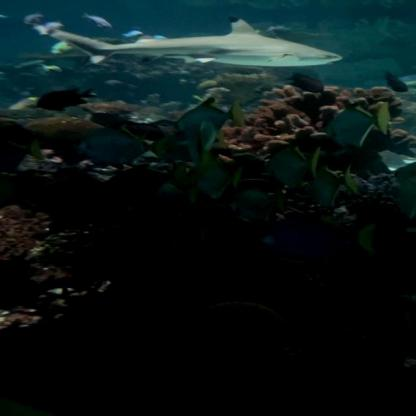fish: (13, 170, 136, 227), (280, 158, 395, 216), (244, 218, 373, 268), (257, 141, 373, 182), (129, 134, 234, 170), (121, 196, 190, 250), (162, 94, 258, 132), (50, 125, 153, 160), (320, 99, 388, 146), (172, 164, 256, 200), (35, 88, 98, 112), (286, 73, 327, 94), (382, 70, 408, 93), (50, 40, 77, 56), (24, 13, 44, 27), (266, 25, 294, 34), (88, 18, 112, 28), (120, 30, 144, 38)
shark: (26, 15, 343, 66)
